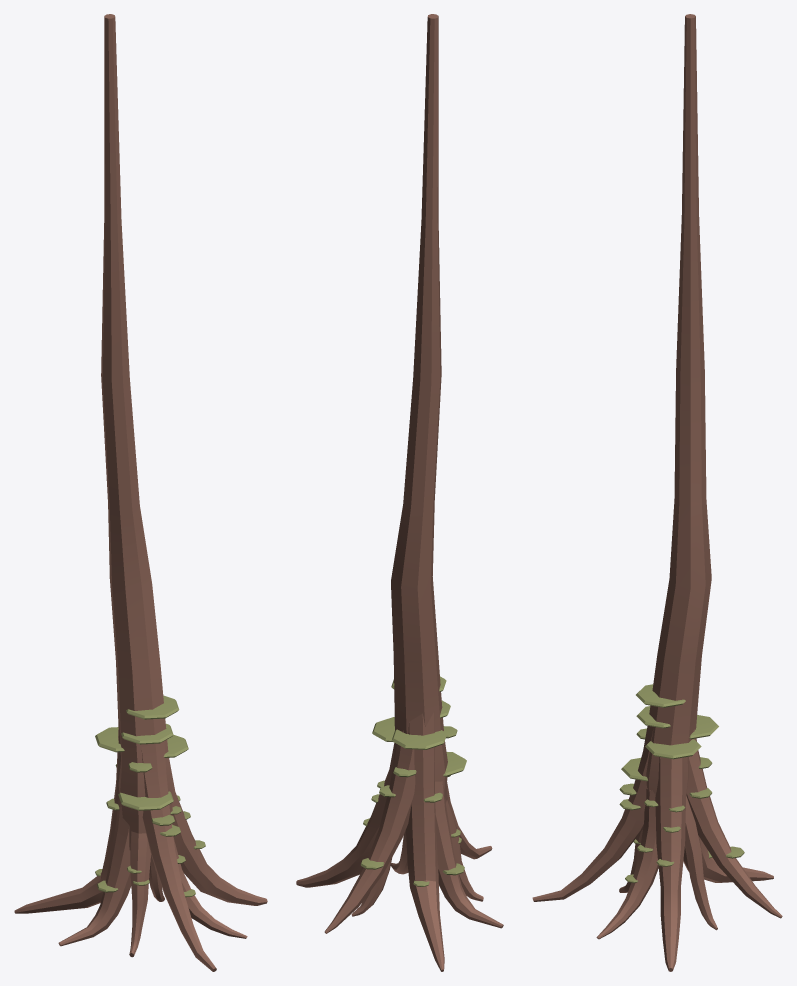
File: SM_Swamp_Tree_Moss_01.fbx
3 views of the same model, side by side, from view 1: azimuth 30°, elevation 25°; view 2: azimuth 150°, elevation 25°; view 3: azimuth 270°, elevation 25° (orthographic). The views are drawn at different scales.
Parts seen in each view (by area): view 1: SM_Swamp_Tree_Moss_01; view 2: SM_Swamp_Tree_Moss_01; view 3: SM_Swamp_Tree_Moss_01.
Boxes of the visible parts, x1,y1,x2,y2 form: SM_Swamp_Tree_Moss_01: (14, 14, 267, 971); SM_Swamp_Tree_Moss_01: (296, 14, 503, 971); SM_Swamp_Tree_Moss_01: (532, 14, 782, 971).
Size of the model in its own units: 135 by 572 by 146.
